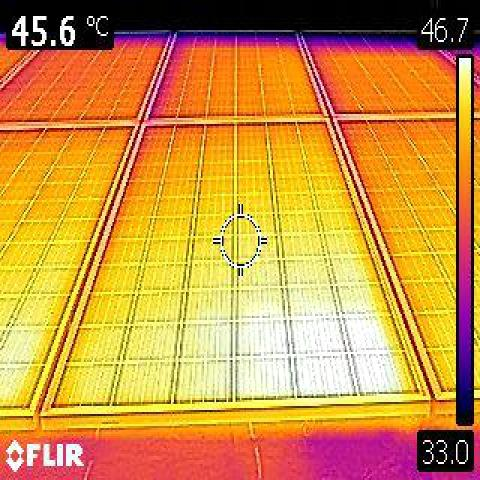fault: (246, 302, 384, 395)
